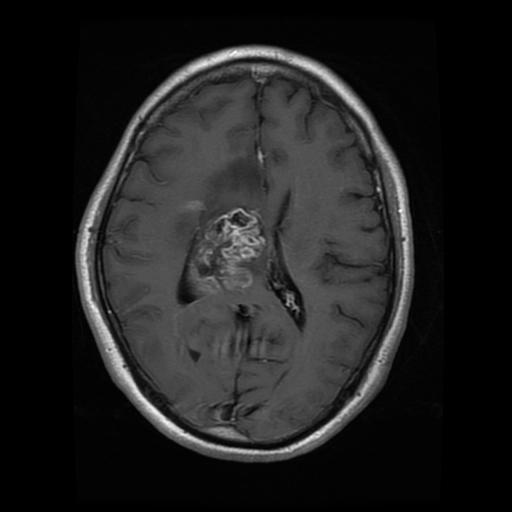Gliomia_tumour: (173, 158, 272, 297)
